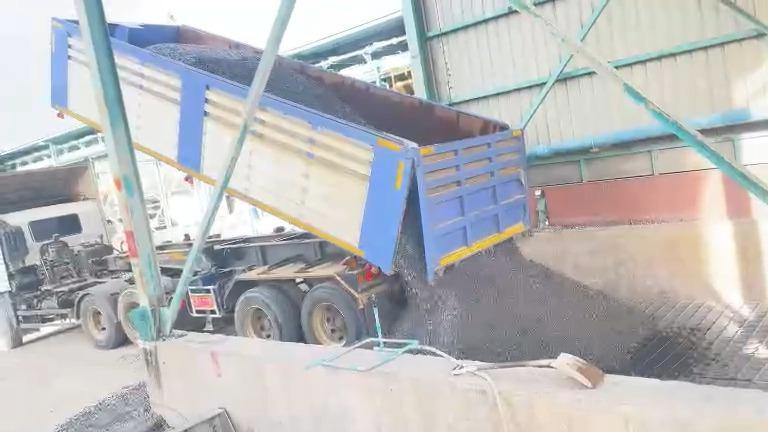gravel: (393, 194, 659, 372), (267, 63, 368, 125), (55, 382, 168, 431), (148, 44, 261, 85)
